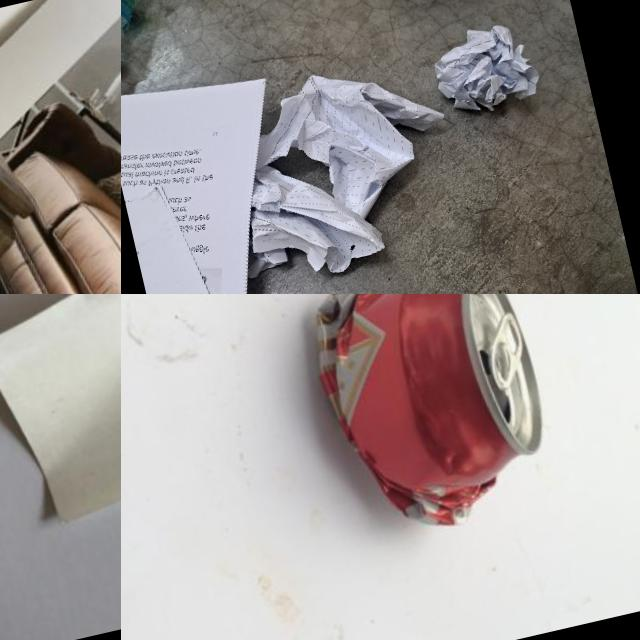aba de lata: (475, 308, 536, 396)
garrafa plástica: (121, 0, 205, 52)
lata: (295, 294, 565, 544)
papel: (121, 52, 326, 294), (239, 48, 462, 238), (0, 0, 121, 294), (0, 294, 121, 537), (223, 143, 389, 293), (122, 170, 295, 294), (426, 16, 544, 121)
